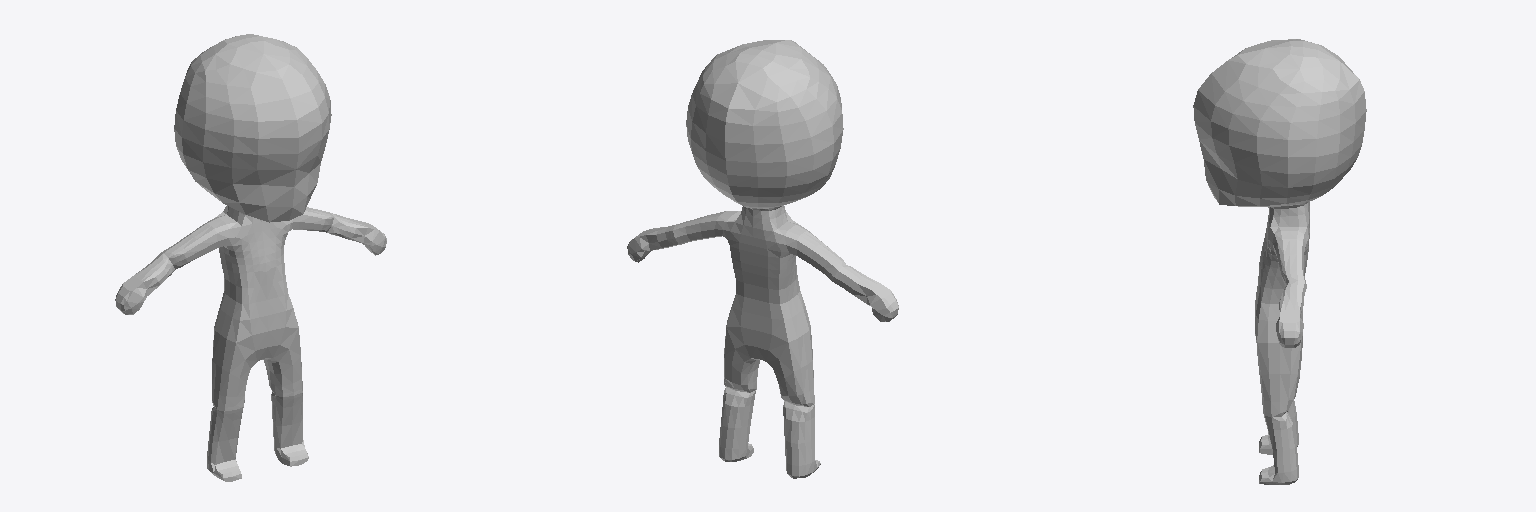
Rendered from ChibiBase.obj.
The picture shows the model from 3 angles: view 1: azimuth 30°, elevation 25°; view 2: azimuth 150°, elevation 25°; view 3: azimuth 270°, elevation 25°; orthographic projection.
Parts seen in each view (by area): view 1: Base_Cube; view 2: Base_Cube; view 3: Base_Cube.
Part boxes in pixels (x1,y1,x2,y2): Base_Cube: (115, 34, 386, 481); Base_Cube: (627, 40, 898, 478); Base_Cube: (1193, 39, 1366, 484).
Size of the model in its own units: 4.05 by 6.08 by 2.28.